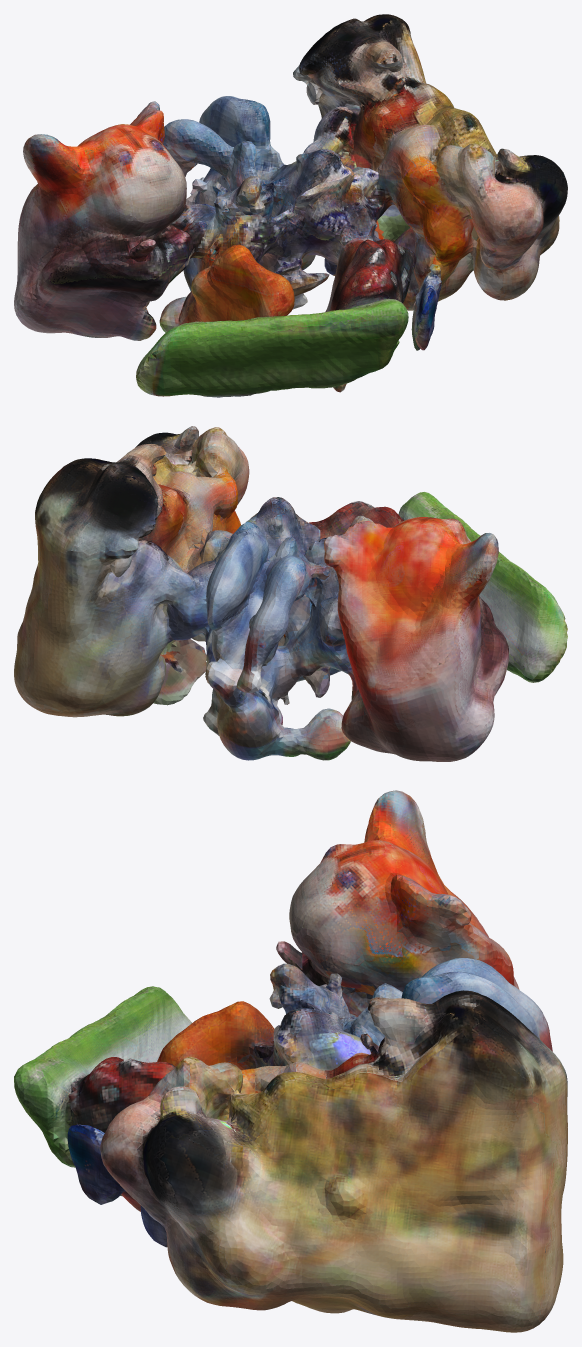
3 views of the same model, one above another, from view 1: azimuth 30°, elevation 25°; view 2: azimuth 150°, elevation 25°; view 3: azimuth 270°, elevation 25° (orthographic). The views are drawn at different scales.
Size of the model in its own units: 1.33 by 0.7098 by 1.08.
Materials: 1 (1 with a texture image).
